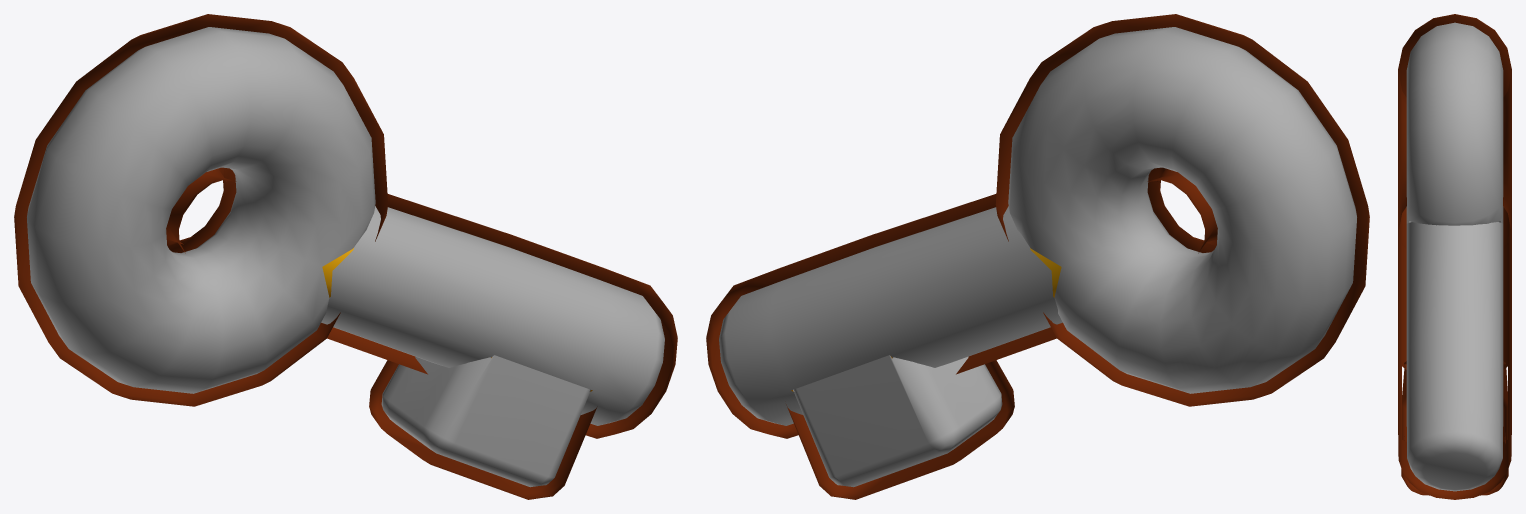
Rendered from Key_DTB.fbx.
3 renders of one model, left to right at view 1: azimuth 30°, elevation 25°; view 2: azimuth 150°, elevation 25°; view 3: azimuth 270°, elevation 25°, orthographic. The views are drawn at different scales.
Visible parts, largest first — view 1: CoinStroke, Coin; view 2: CoinStroke, Coin; view 3: CoinStroke, Coin.
Boxes of the visible parts, box(x1,y1,x2,y2) form: CoinStroke: box(27, 27, 664, 487); Coin: box(14, 14, 677, 499); CoinStroke: box(719, 27, 1356, 487); Coin: box(706, 14, 1369, 499); CoinStroke: box(1406, 22, 1503, 491); Coin: box(1398, 14, 1511, 499).
Bounding box in the file's own units: 108 × 86.4 × 24.61.
